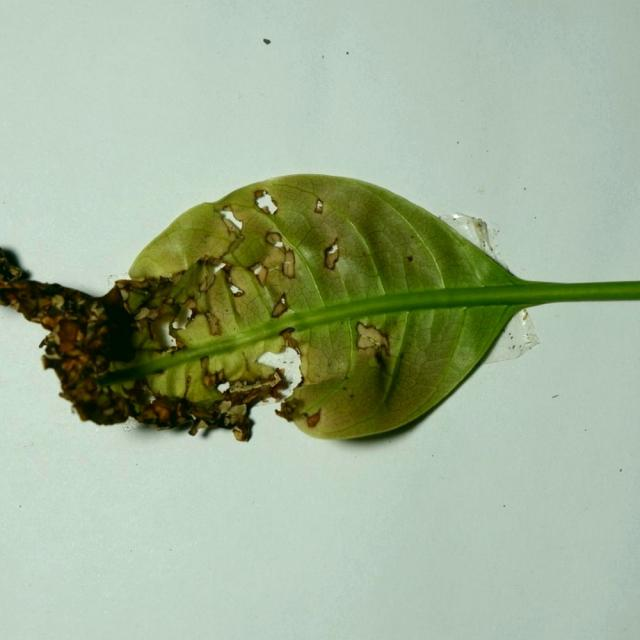Anthracnose: (166, 378, 267, 439), (46, 307, 105, 366), (248, 345, 304, 395), (248, 232, 294, 290), (114, 276, 170, 317), (203, 274, 239, 335), (217, 378, 278, 410), (444, 214, 490, 253), (195, 258, 230, 300), (355, 320, 392, 358), (82, 356, 124, 386), (513, 309, 539, 353), (321, 236, 344, 276), (147, 316, 172, 349), (15, 292, 45, 319), (226, 266, 250, 297), (219, 206, 245, 233), (260, 245, 287, 271), (221, 232, 246, 260), (279, 328, 302, 357), (253, 188, 277, 214), (100, 285, 126, 309), (148, 397, 174, 420), (58, 319, 82, 343), (323, 238, 340, 270), (237, 386, 264, 406), (172, 306, 193, 330), (271, 293, 289, 319), (187, 405, 216, 421), (60, 356, 82, 376), (1, 262, 23, 282), (204, 311, 221, 336), (481, 223, 495, 253), (303, 408, 322, 428), (190, 417, 210, 435), (202, 271, 218, 293), (275, 403, 295, 420), (282, 255, 296, 279), (181, 296, 199, 314), (87, 306, 106, 322), (269, 370, 284, 388), (228, 379, 247, 393), (375, 349, 388, 369), (265, 231, 282, 246), (256, 265, 268, 286), (205, 256, 226, 268), (231, 404, 247, 419), (248, 262, 265, 276), (41, 315, 58, 329), (122, 279, 148, 288), (269, 385, 284, 400), (202, 373, 216, 389), (51, 294, 65, 310), (364, 334, 380, 348), (134, 308, 151, 321), (200, 355, 210, 377), (118, 289, 130, 307), (43, 349, 61, 361), (217, 380, 232, 394), (233, 427, 247, 442), (4, 291, 19, 305), (241, 352, 250, 375), (38, 335, 52, 349), (218, 400, 232, 414), (96, 394, 110, 408), (326, 236, 339, 251), (143, 310, 159, 322), (41, 355, 53, 371), (171, 271, 184, 285), (281, 327, 296, 339), (215, 370, 226, 386), (185, 307, 196, 322), (314, 198, 324, 214), (162, 344, 178, 354), (173, 338, 186, 350), (275, 367, 286, 381), (184, 375, 192, 393), (85, 380, 97, 392), (231, 287, 244, 298), (9, 298, 20, 310), (45, 344, 57, 355), (103, 407, 115, 417), (254, 189, 267, 198), (222, 263, 233, 273), (74, 329, 83, 341), (123, 301, 131, 313), (521, 309, 529, 321), (164, 297, 174, 305), (474, 219, 482, 229), (279, 344, 287, 353), (263, 38, 271, 45), (406, 255, 413, 262), (510, 344, 516, 350), (346, 51, 349, 55), (456, 140, 459, 144), (620, 468, 623, 472), (523, 187, 526, 190), (322, 55, 324, 59)
Mango: (0, 174, 639, 446)
